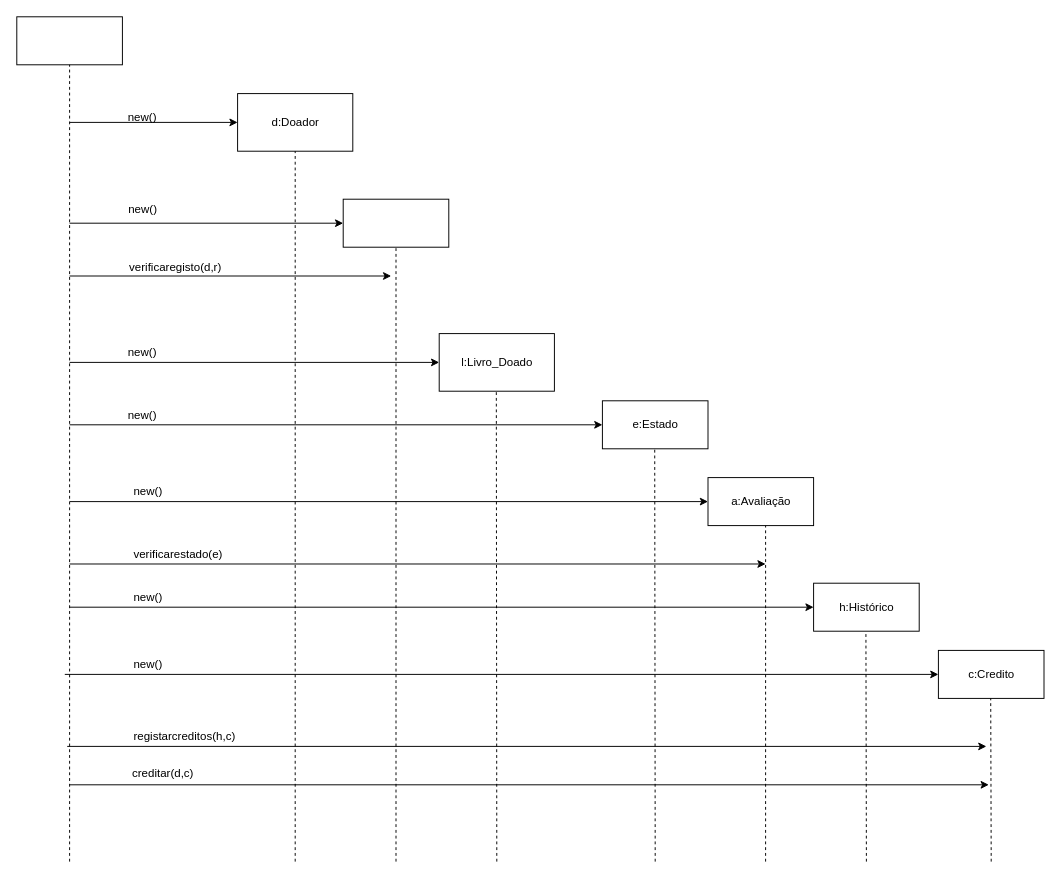
The diagram is 1061 pixels wide and 879 high, and some of its shapes have lost their labels. The shapes that lost their labels are listed below. From the top down, each one's centre as x and y in pixels, then its label:
At point 69,40: "UI".
At point 395,222: "r:Registo".
